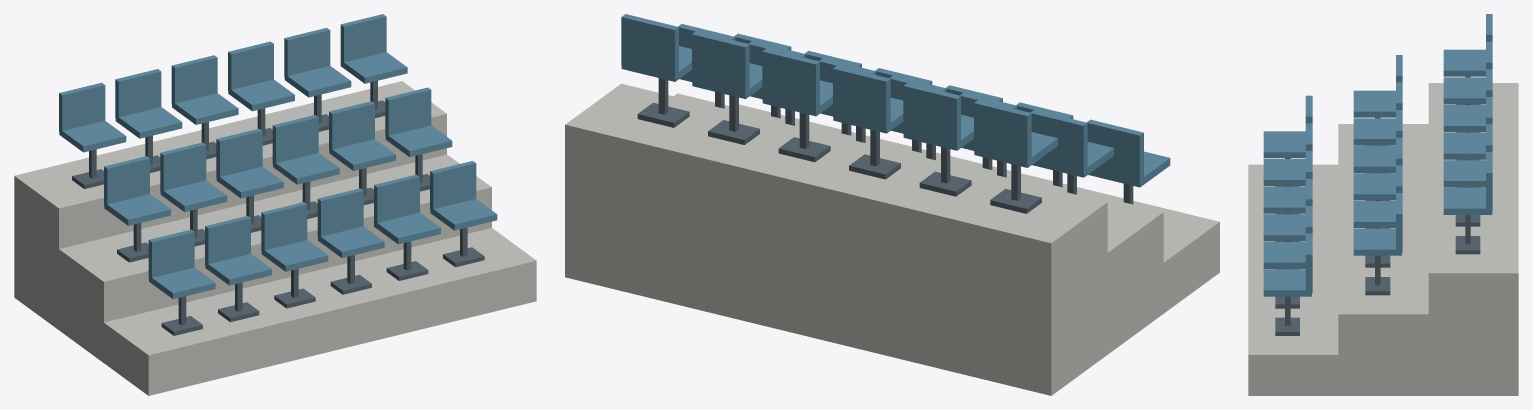
Rendered from standbay.glb.
3 views of the same model, side by side, from view 1: azimuth 30°, elevation 25°; view 2: azimuth 150°, elevation 25°; view 3: azimuth 270°, elevation 25° (orthographic). The views are drawn at different scales.
Parts seen in each view (by area): view 1: seated-stand-bay; view 2: seated-stand-bay; view 3: seated-stand-bay.
Boxes of the visible parts, bbox=[...] form: seated-stand-bay: bbox=[14, 14, 536, 395]; seated-stand-bay: bbox=[565, 14, 1219, 395]; seated-stand-bay: bbox=[1248, 14, 1518, 395].
Bounding box in the file's own units: 4 × 2.03 × 2.4.
